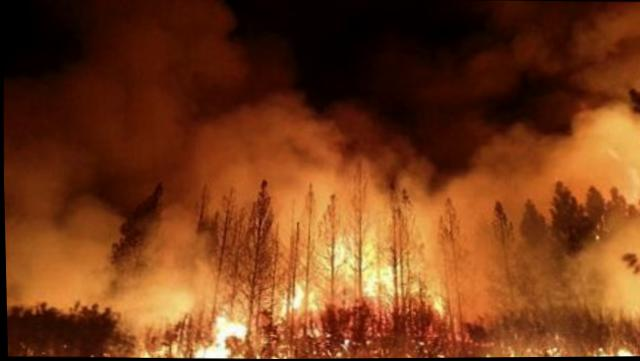fire: (191, 232, 438, 358), (480, 340, 639, 358)
